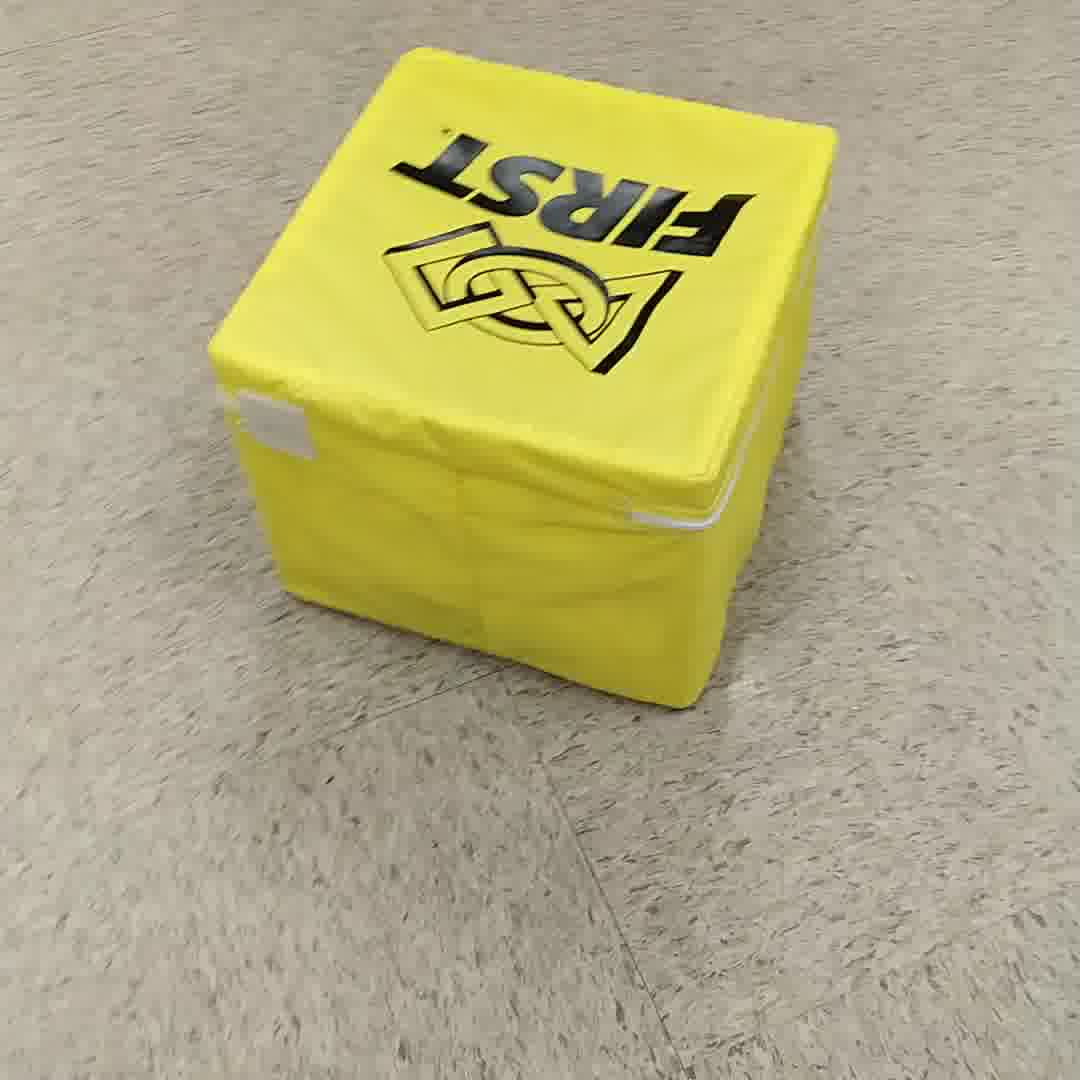box: (213, 51, 848, 720)
